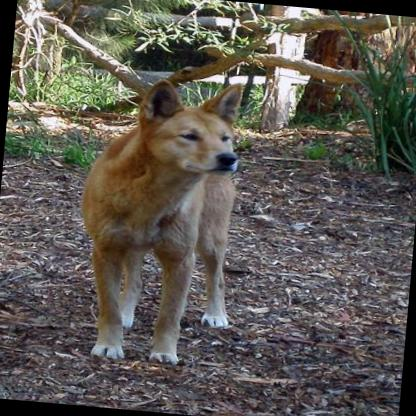dingo: (64, 69, 250, 370)
